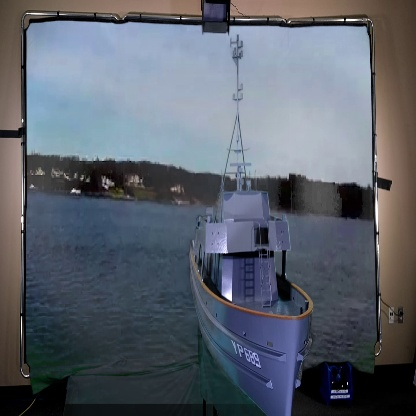YP689: (187, 34, 314, 416)
